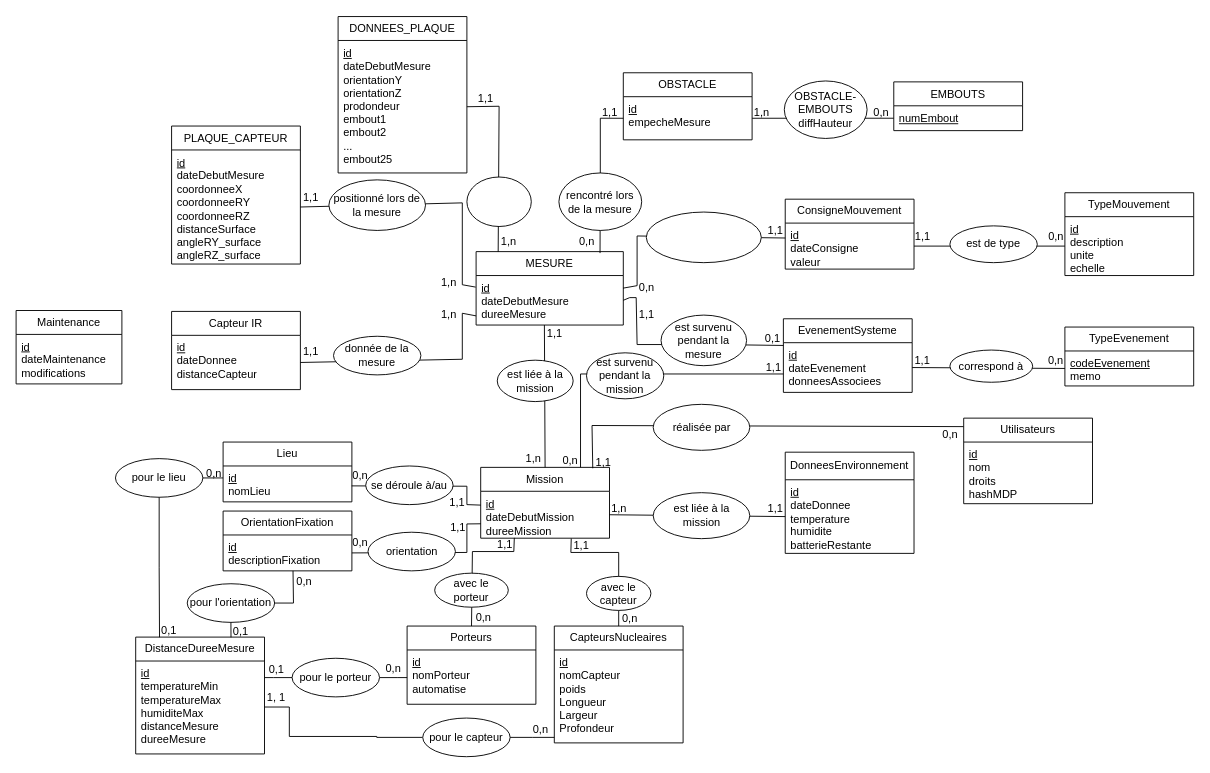
The diagram is 1210 pixels wide and 773 high, and some of its shapes have lost their labels. Each missing label, with the centre of its shape:
"a été donnée dans la mesure" belongs at (x=703, y=237).
"de la mesure" belongs at (x=498, y=201).
